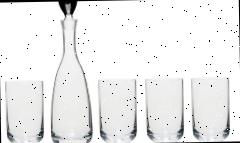glass: (4, 76, 231, 143), (48, 0, 93, 143)
